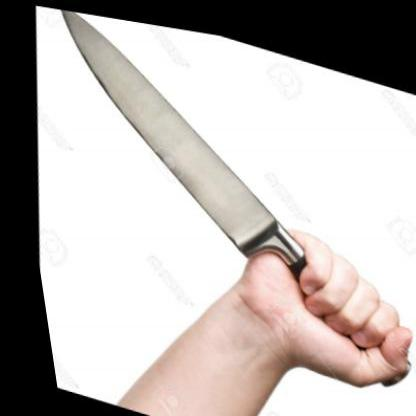knife: (18, 3, 405, 342)
